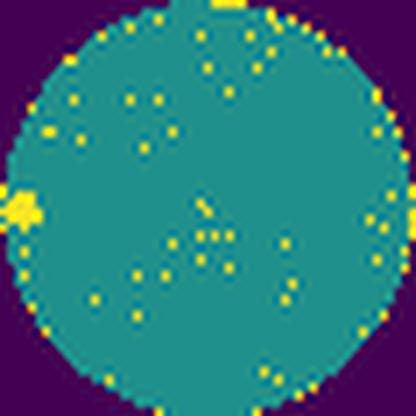Loc: (0, 187, 46, 232)
